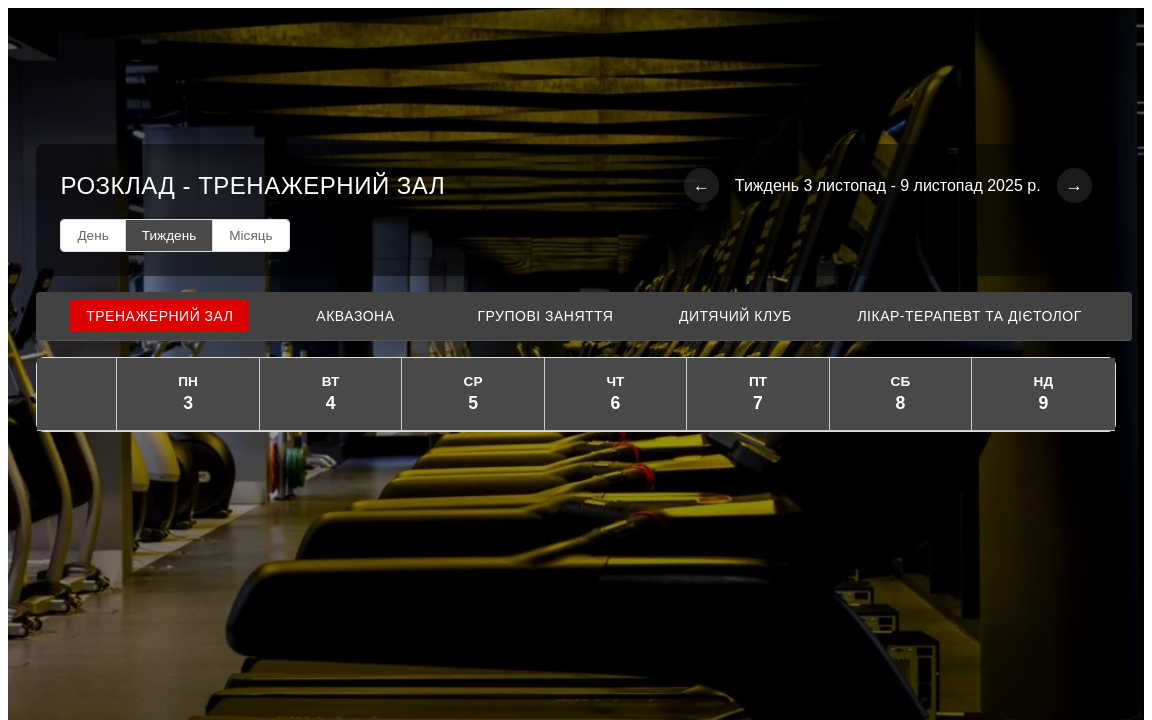
SchedulePage Component › shows correct zone name when zone is selected
Click the button "АКВАЗОНА" at point(355, 316), box [275,300,435,332]
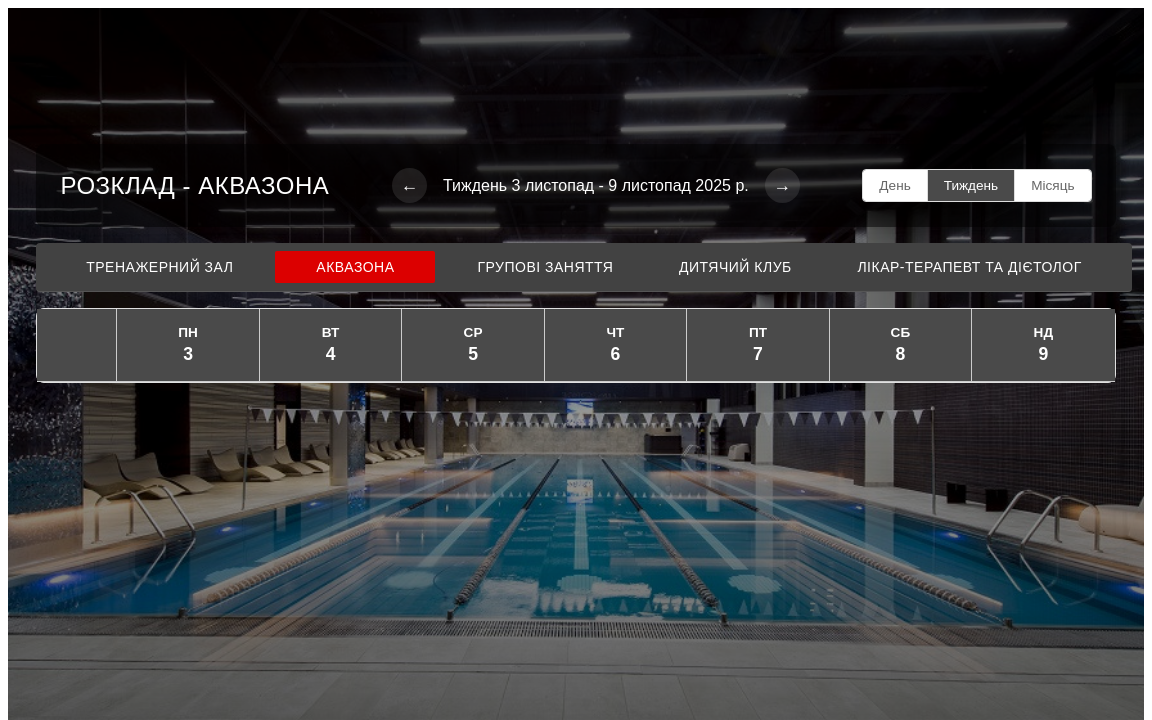
Now the heading "Розклад - АКВАЗОНА" is shown, box [60,172,329,200]
